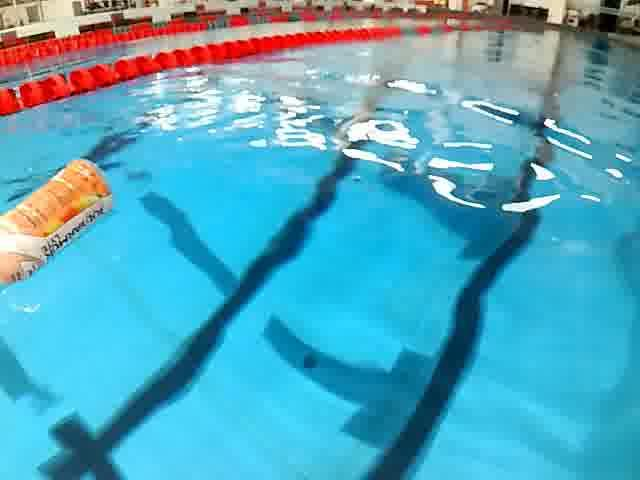Bottle: (0, 153, 124, 297)
